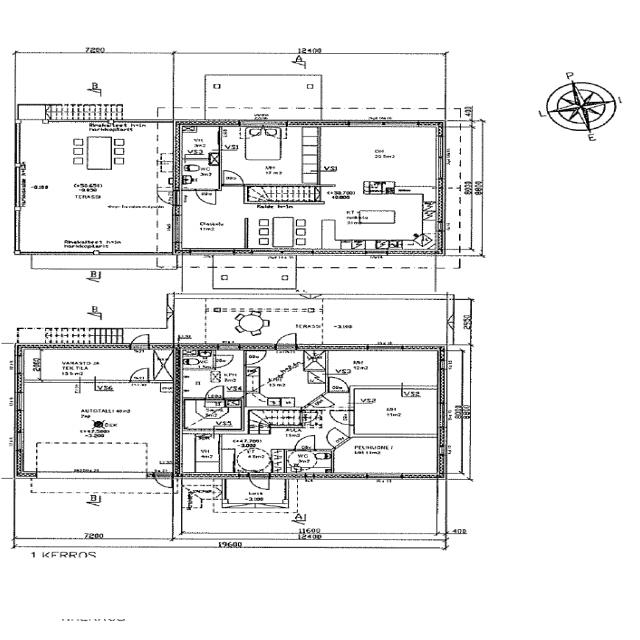door: (320, 427, 350, 448), (308, 395, 336, 413), (249, 473, 270, 493), (153, 191, 182, 205), (276, 330, 296, 350), (130, 330, 149, 350), (330, 410, 354, 425), (154, 472, 172, 492), (295, 436, 315, 451), (196, 189, 216, 204), (130, 367, 148, 383), (244, 351, 265, 364), (329, 378, 348, 392), (213, 355, 233, 368), (224, 172, 242, 186), (206, 386, 223, 400), (300, 413, 317, 423)
